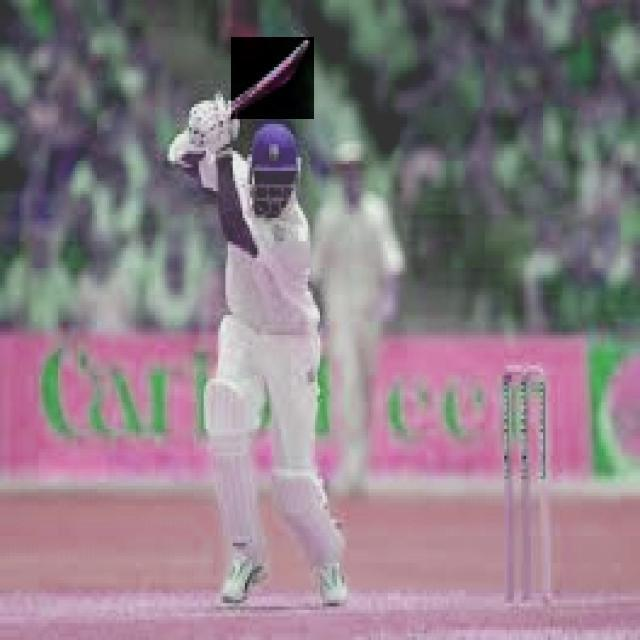bat: (230, 35, 315, 118)
